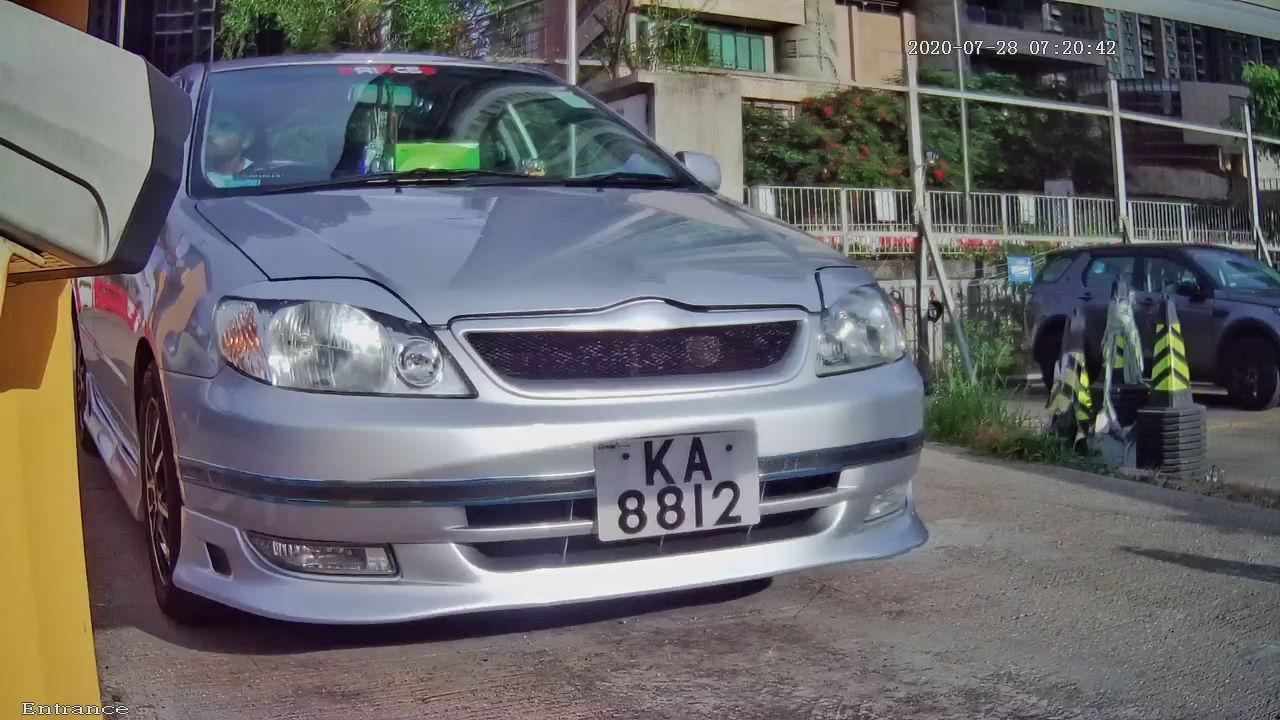privatecar: (29, 29, 1092, 692)
